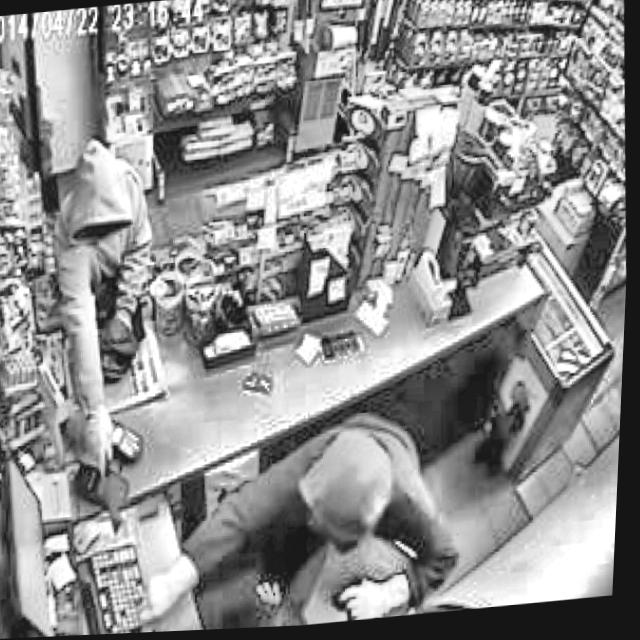robbery: (123, 404, 479, 635), (38, 123, 183, 505)
